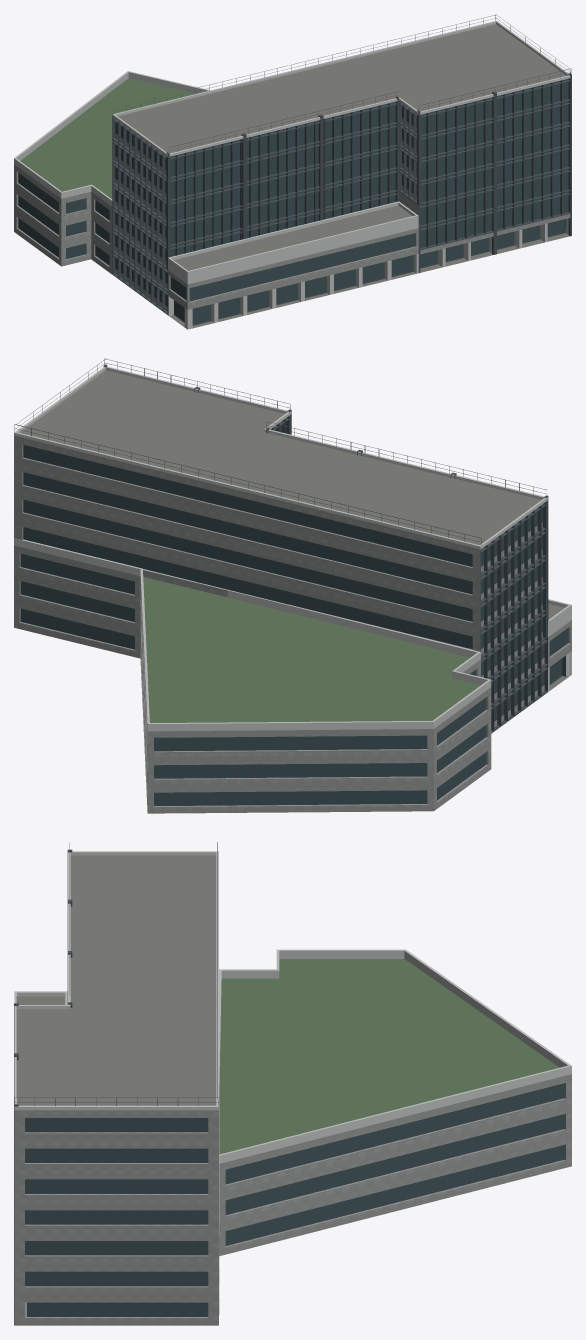
3 views of the same model, one above another, from view 1: azimuth 30°, elevation 25°; view 2: azimuth 150°, elevation 25°; view 3: azimuth 270°, elevation 25° (orthographic). The views are drawn at different scales.
Visible parts, largest first — view 1: lawSchool__glass, lawSchool__frame, lawSchool__roof, lawSchool__trim, lawSchool__wall, lawSchool__roofg, lawSchool__metal; view 2: lawSchool__wall, lawSchool__glass, lawSchool__roofg, lawSchool__roof, lawSchool__frame, lawSchool__trim, lawSchool__metal; view 3: lawSchool__wall, lawSchool__roof, lawSchool__roofg, lawSchool__glass, lawSchool__trim, lawSchool__frame, lawSchool__metal.
Boxes of the visible parts, left/top/right/bottom form: lawSchool__glass: left=18, top=78, right=568, bottom=324; lawSchool__frame: left=18, top=73, right=571, bottom=325; lawSchool__roof: left=118, top=24, right=569, bottom=328; lawSchool__trim: left=14, top=20, right=570, bottom=329; lawSchool__wall: left=14, top=118, right=570, bottom=311; lawSchool__roofg: left=20, top=78, right=195, bottom=198; lawSchool__metal: left=113, top=14, right=571, bottom=151; lawSchool__wall: left=14, top=435, right=571, bottom=813; lawSchool__glass: left=21, top=416, right=568, bottom=805; lawSchool__roofg: left=143, top=577, right=480, bottom=722; lawSchool__roof: left=20, top=370, right=569, bottom=690; lawSchool__frame: left=20, top=364, right=568, bottom=805; lawSchool__trim: left=14, top=366, right=571, bottom=731; lawSchool__metal: left=14, top=358, right=546, bottom=545; lawSchool__wall: left=14, top=1074, right=571, bottom=1325; lawSchool__roof: left=17, top=855, right=216, bottom=1105; lawSchool__roofg: left=219, top=959, right=559, bottom=1154; lawSchool__glass: left=25, top=1083, right=563, bottom=1316; lawSchool__trim: left=14, top=851, right=571, bottom=1317; lawSchool__frame: left=14, top=849, right=564, bottom=1324; lawSchool__metal: left=14, top=842, right=218, bottom=1106.
Bounding box in the file's own units: 72.97 × 28.1 × 62.44.
7 materials, 1 textured.
